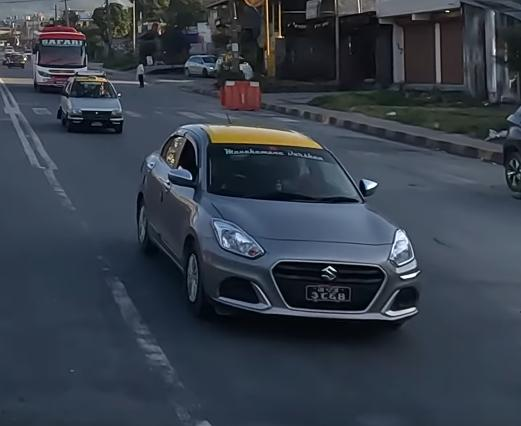taxi: (126, 121, 422, 343), (56, 66, 139, 135)
